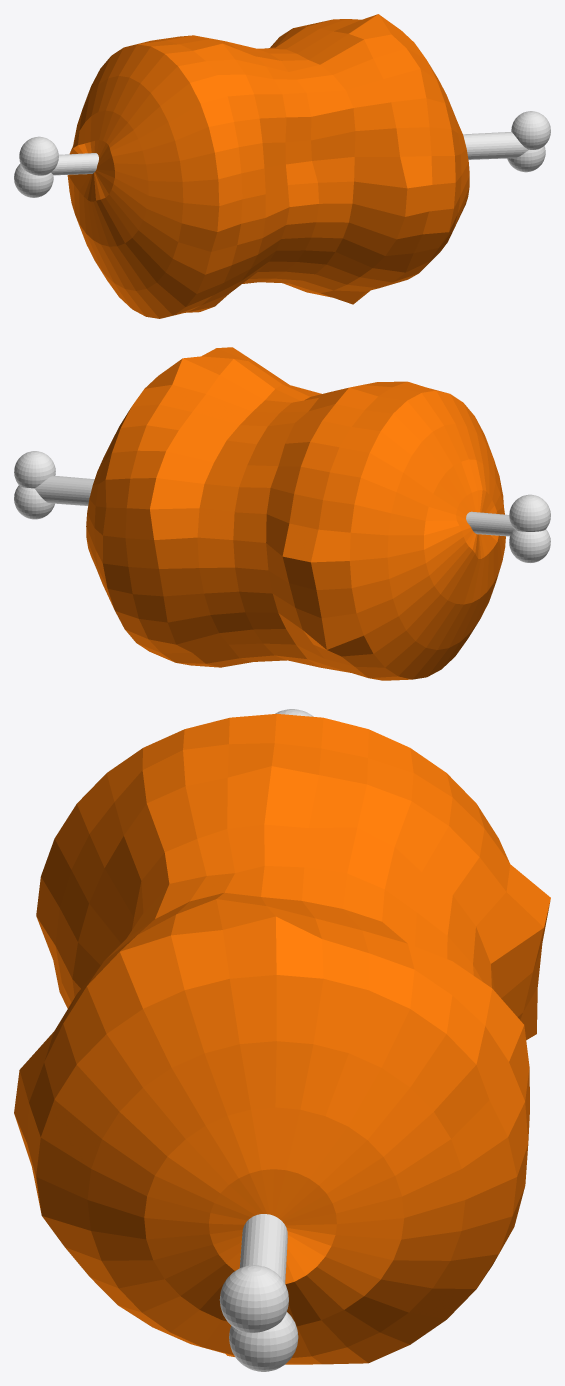
The model's file is meat.fbx.
3 views of the same model, one above another, from view 1: azimuth 30°, elevation 25°; view 2: azimuth 150°, elevation 25°; view 3: azimuth 270°, elevation 25° (orthographic). The views are drawn at different scales.
Parts seen in each view (by area): view 1: Sphere; view 2: Sphere; view 3: Sphere.
Part boxes in pixels (x1,y1,x2,y2): Sphere: (14,14,550,318); Sphere: (14,347,550,680); Sphere: (14,709,550,1371).
Bounding box in the file's own units: 126527 × 67184 × 65070.
